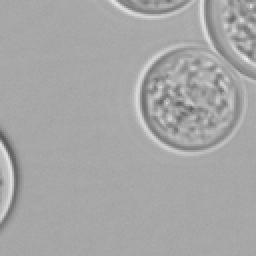picoshell: (136, 44, 246, 154), (198, 0, 254, 80), (108, 0, 194, 18), (0, 136, 14, 224)
